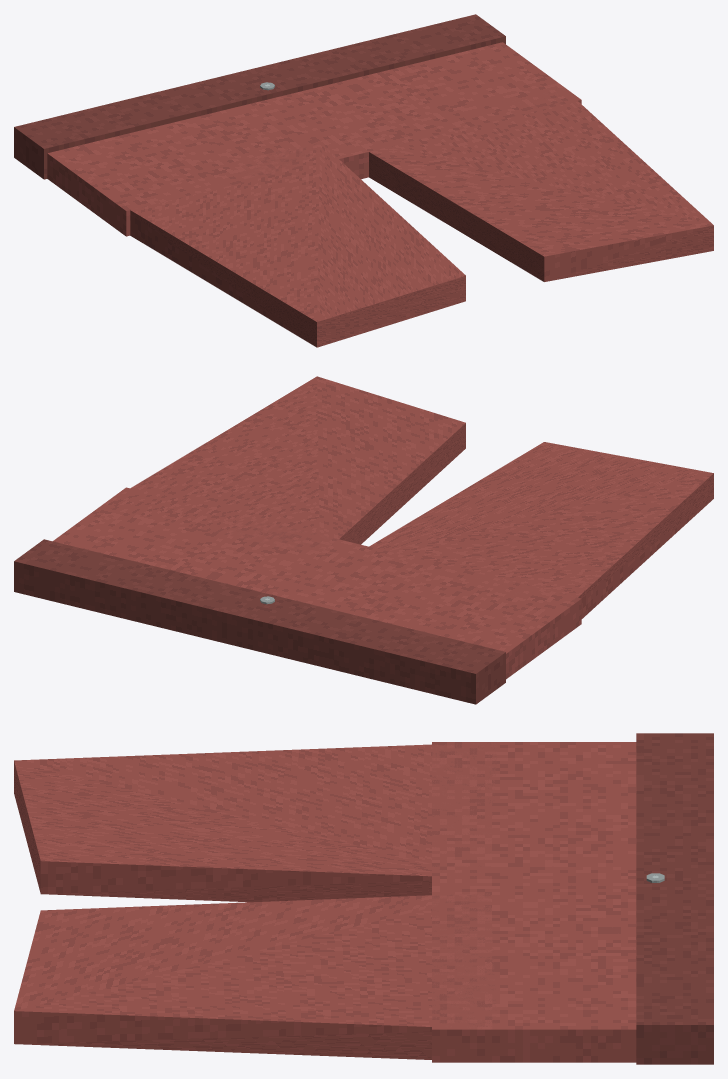
File: boxer_briefs.glb
3 views of the same model, one above another, from view 1: azimuth 30°, elevation 25°; view 2: azimuth 150°, elevation 25°; view 3: azimuth 270°, elevation 25° (orthographic). The views are drawn at different scales.
Parts seen in each view (by area): view 1: block_leg -1, block_seat, block_leg 1, block_waistband; view 2: block_leg 1, block_seat, block_leg -1, block_waistband; view 3: block_leg 1, block_seat, block_leg -1, block_waistband.
Boxes of the visible parts, left/top/right/bottom form: block_leg -1: left=130, top=142, right=465, bottom=347; block_seat: left=47, top=42, right=581, bottom=236; block_leg 1: left=369, top=83, right=713, bottom=281; block_waistband: left=14, top=14, right=505, bottom=179; block_leg 1: left=101, top=376, right=465, bottom=554; block_seat: left=53, top=487, right=581, bottom=679; block_leg -1: left=369, top=442, right=713, bottom=618; block_waistband: left=14, top=539, right=505, bottom=704; block_leg 1: left=14, top=893, right=497, bottom=1059; block_seat: left=432, top=742, right=636, bottom=1062; block_leg -1: left=14, top=742, right=496, bottom=902; block_waistband: left=636, top=733, right=713, bottom=1064.
Size of the model in its own units: 0.284 by 0.019 by 0.288.
1 material, 1 textured.
